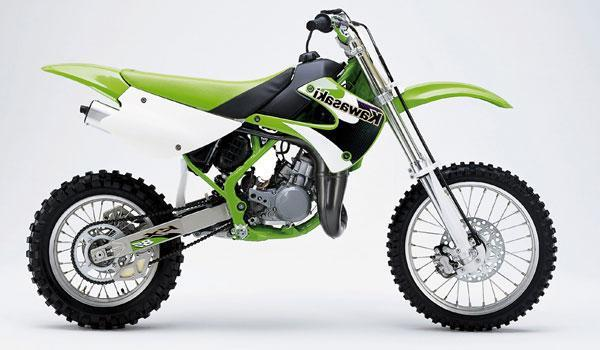motorcycle: (14, 2, 576, 345)
